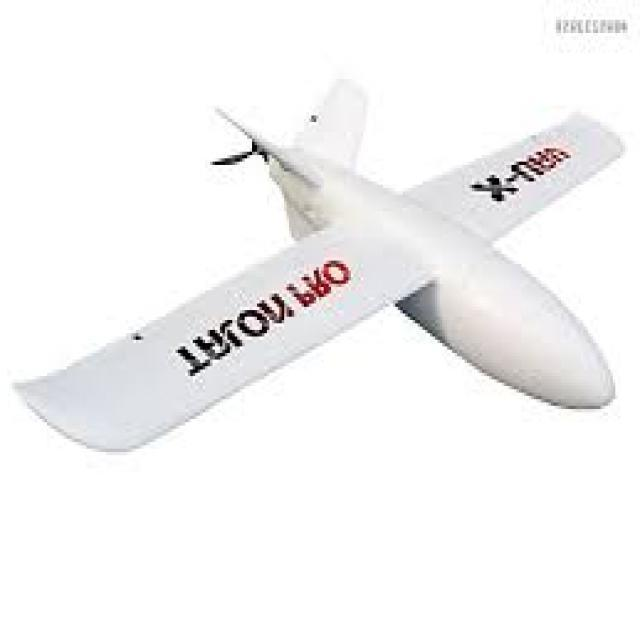UAV: (46, 79, 616, 494)
